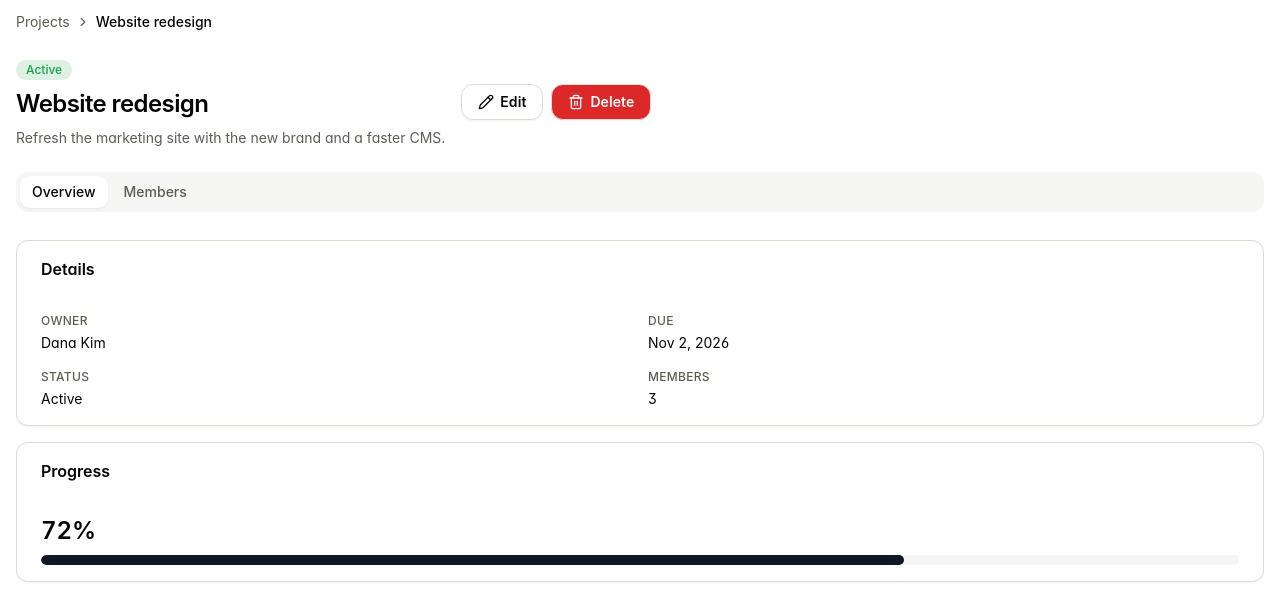
Test case: detail-page › switches tabs
Expected: the text "72%" is shown, left=41, top=516, right=96, bottom=545
What coordinates should you click on to do the following:
click the tab "Members"
I would click on:
 (155, 192)
Its box is left=112, top=176, right=199, bottom=208.
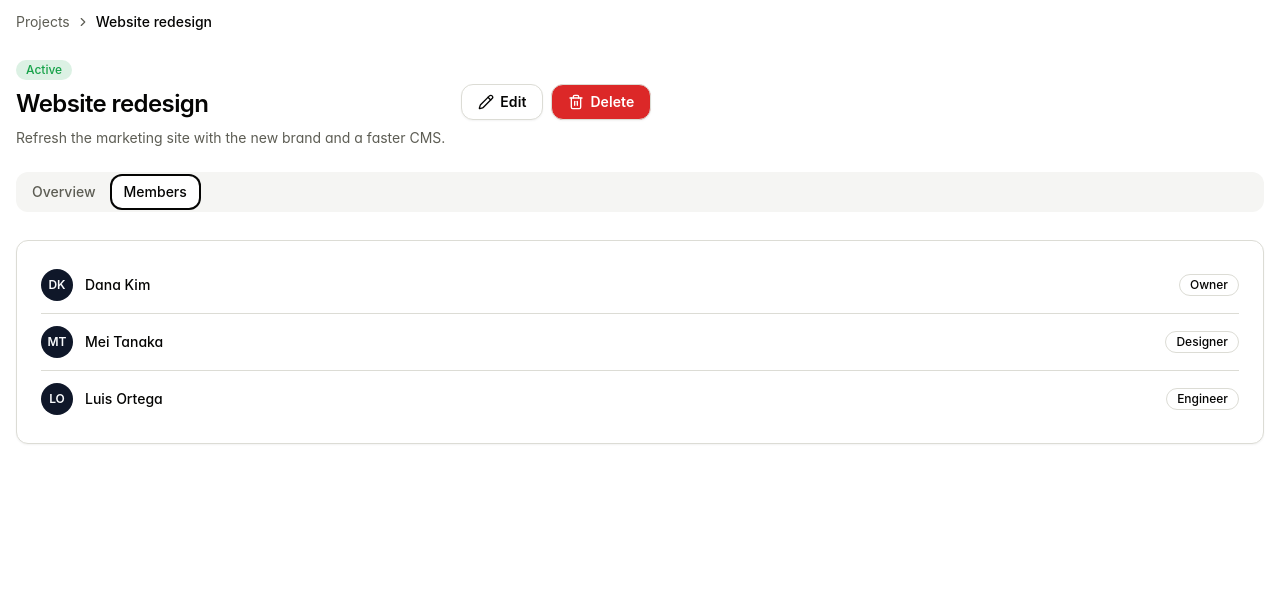
Now the text "Mei Tanaka" is shown, box left=85, top=333, right=163, bottom=350
Now the text "72%" is gone
